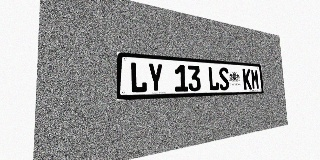1: (174, 64, 188, 92)
3: (188, 65, 201, 91)
K: (242, 68, 252, 90)
L: (130, 62, 147, 93), (208, 66, 219, 91)
M: (250, 69, 259, 89)
S: (218, 67, 229, 90)
Y: (147, 63, 164, 93)
